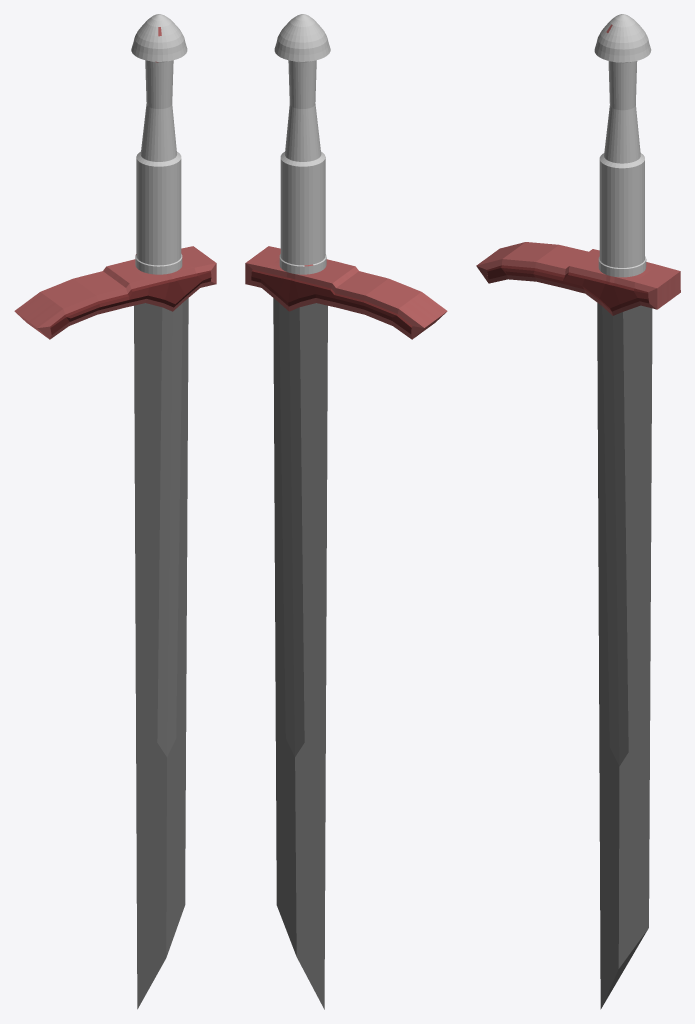
File: EnemySword.fbx
3 views of the same model, side by side, from view 1: azimuth 30°, elevation 25°; view 2: azimuth 150°, elevation 25°; view 3: azimuth 330°, elevation 25° (orthographic).
Visible parts, largest first — view 1: Circle; view 2: Circle; view 3: Circle.
Part boxes in pixels (x1,y1,x2,y2): Circle: [14, 14, 216, 1009]; Circle: [245, 14, 447, 1009]; Circle: [476, 14, 680, 1009].
Size of the model in its own units: 164 by 864 by 45.13.
